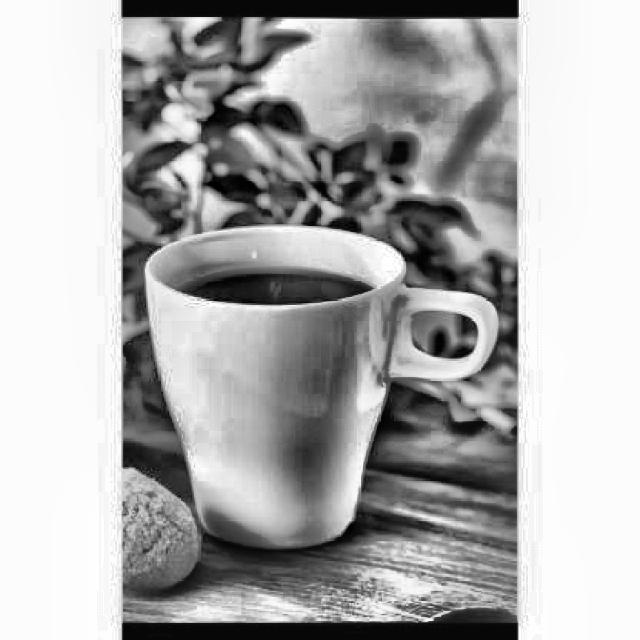Mug: (142, 220, 500, 554)
